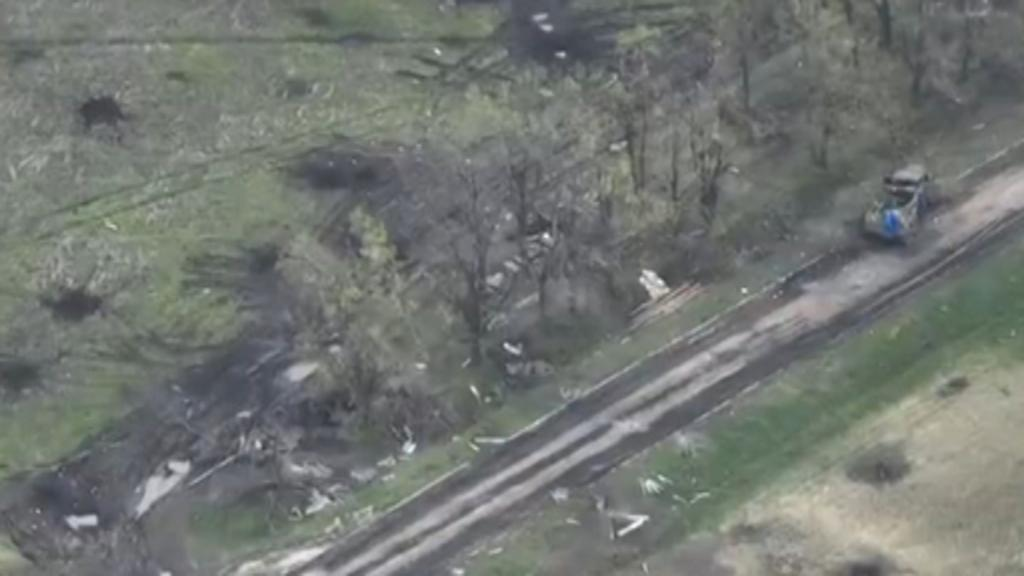ART: (184, 419, 276, 492)
TRUCK: (860, 160, 932, 252)
